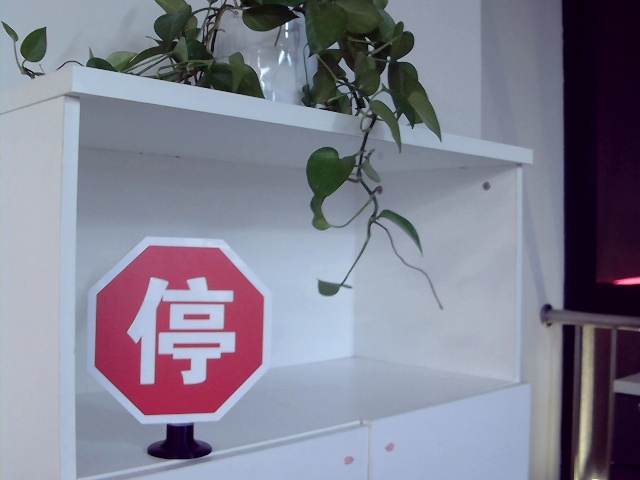stop: (126, 273, 238, 390)
